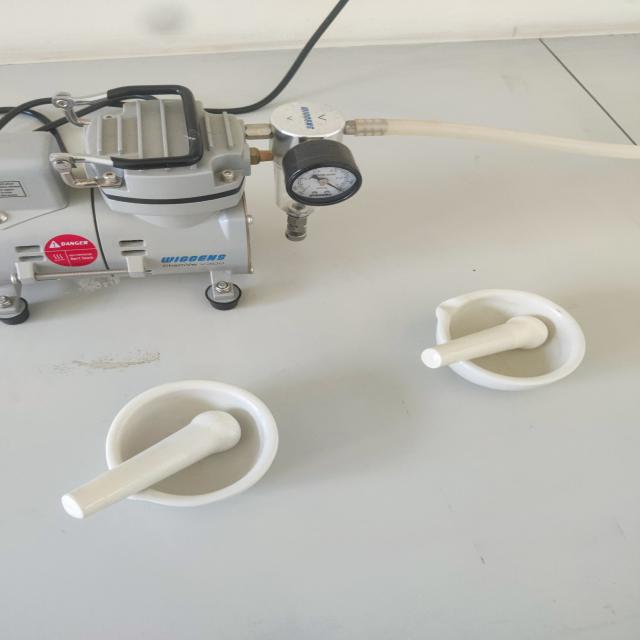Porcelain_Mortar Pestle: (37, 358, 309, 544), (391, 271, 616, 414)
